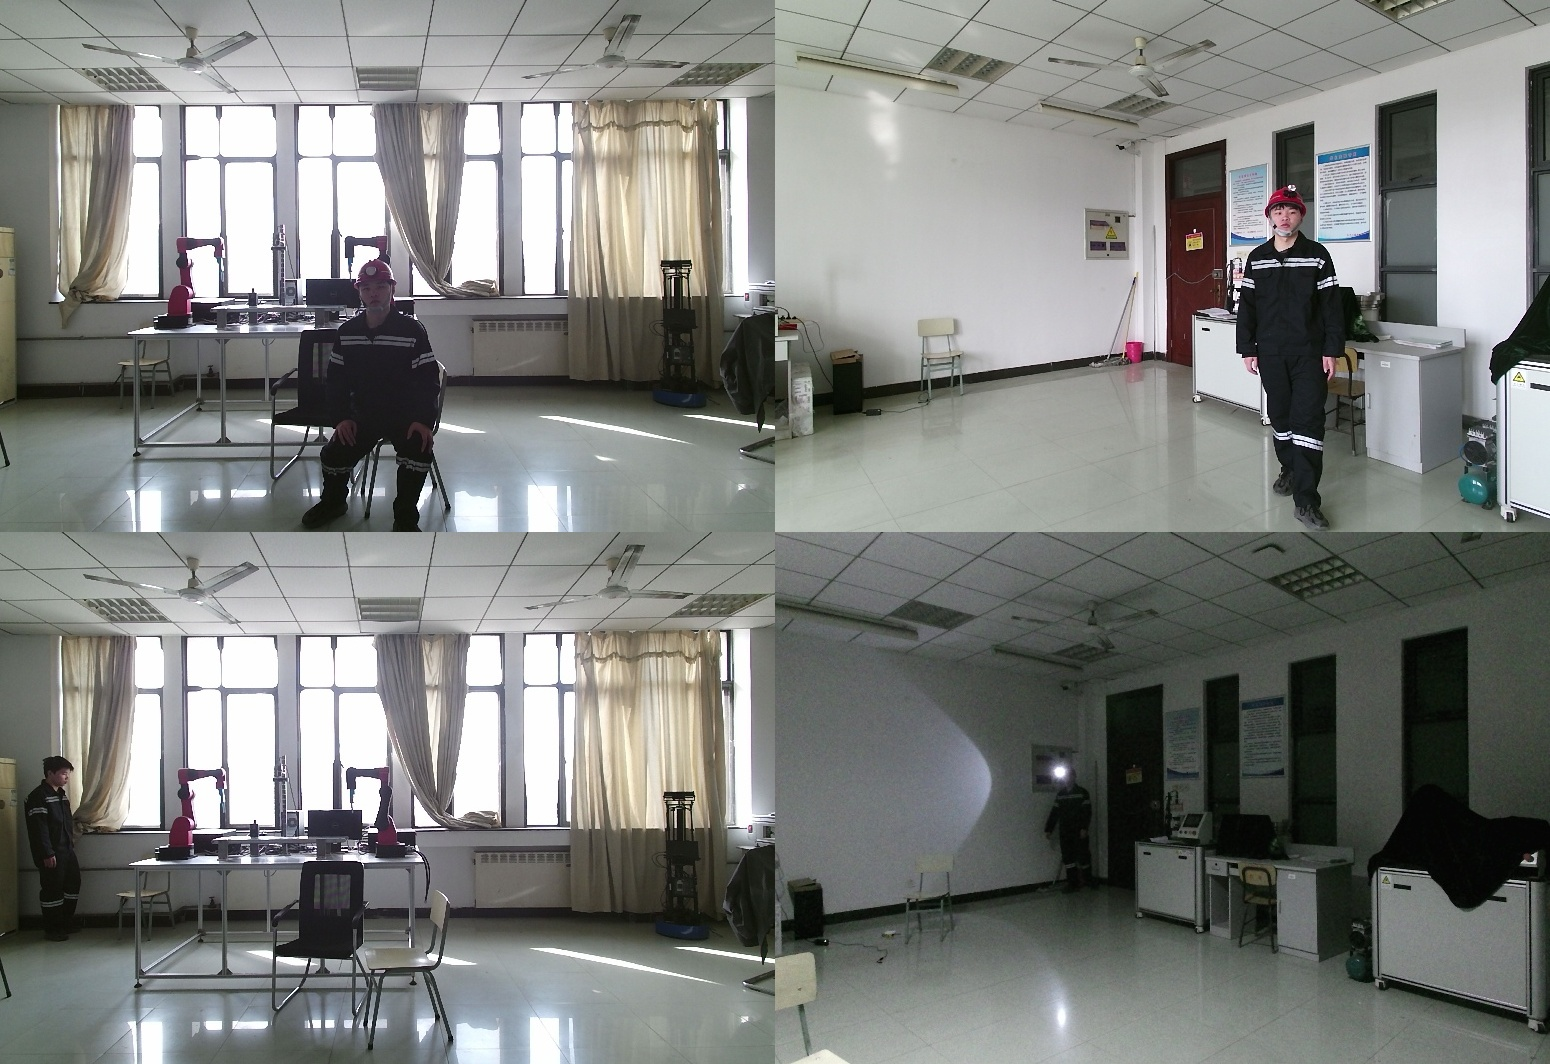person: (308, 260, 455, 532), (1243, 188, 1356, 528), (18, 756, 81, 943), (1043, 768, 1095, 898)
